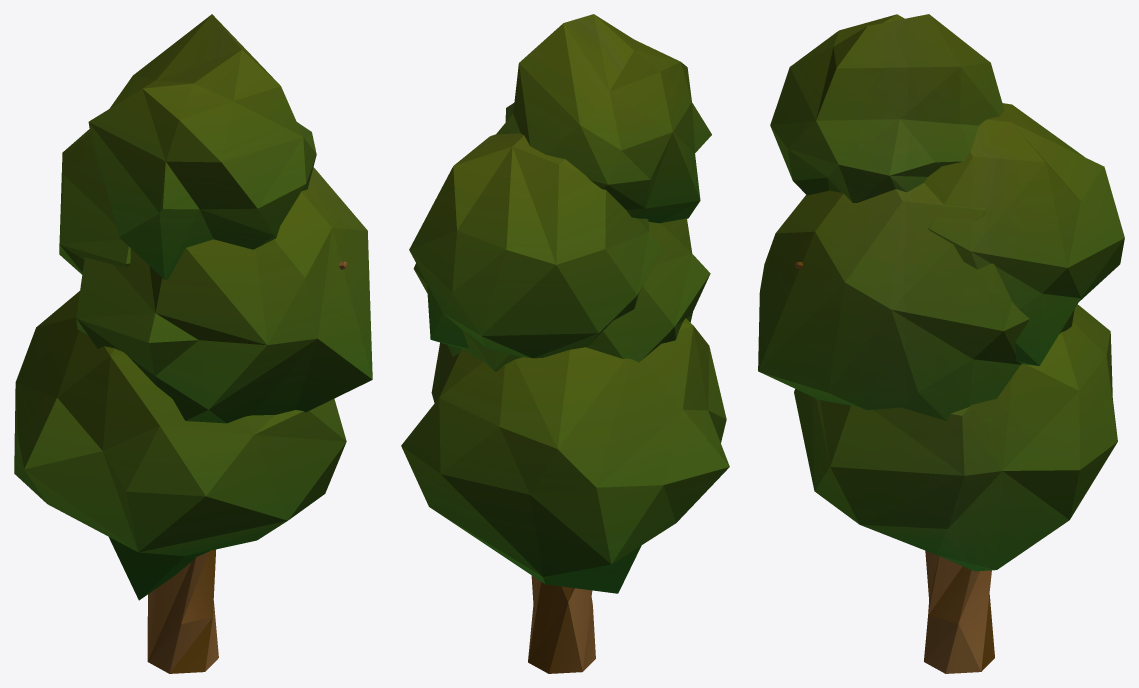
Rendered from happy tree v1.fbx.
3 renders of one model, left to right at view 1: azimuth 30°, elevation 25°; view 2: azimuth 150°, elevation 25°; view 3: azimuth 270°, elevation 25°, orthographic. The views are drawn at different scales.
Visible parts, largest first — view 1: leaves4, leaves3, leaves, bark, leaves2; view 2: leaves4, leaves2, leaves, leaves3, bark; view 3: leaves3, leaves4, leaves, leaves2, bark.
Boxes of the visible parts, x1=… form: leaves4: x1=14, y1=291, x2=346, y2=600; leaves3: x1=76, y1=167, x2=372, y2=423; leaves: x1=88, y1=14, x2=316, y2=279; bark: x1=147, y1=549, x2=218, y2=673; leaves2: x1=59, y1=129, x2=130, y2=274; leaves4: x1=401, y1=318, x2=729, y2=593; leaves2: x1=409, y1=133, x2=662, y2=358; leaves: x1=496, y1=14, x2=711, y2=223; leaves3: x1=413, y1=218, x2=710, y2=371; bark: x1=528, y1=575, x2=595, y2=673; leaves3: x1=758, y1=183, x2=1074, y2=420; leaves4: x1=794, y1=304, x2=1117, y2=571; leaves: x1=770, y1=14, x2=1004, y2=202; leaves2: x1=924, y1=103, x2=1124, y2=365; bark: x1=924, y1=550, x2=994, y2=673.
Size of the model in its own units: 206 by 414 by 211.
